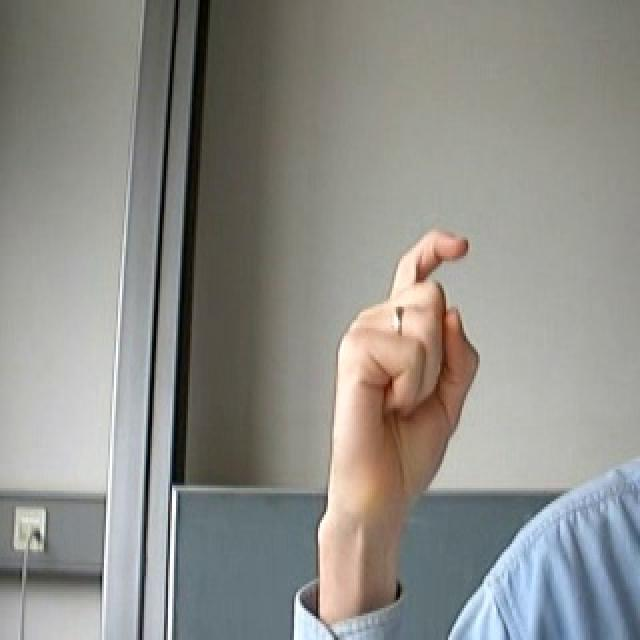X: (283, 210, 526, 539)
